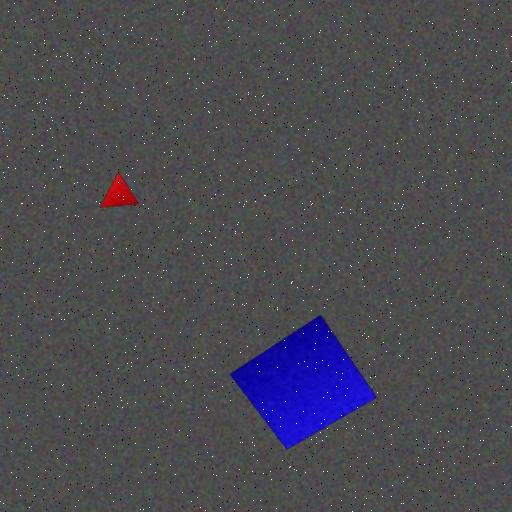BLUE_SQUARE: (228, 314, 378, 450)
